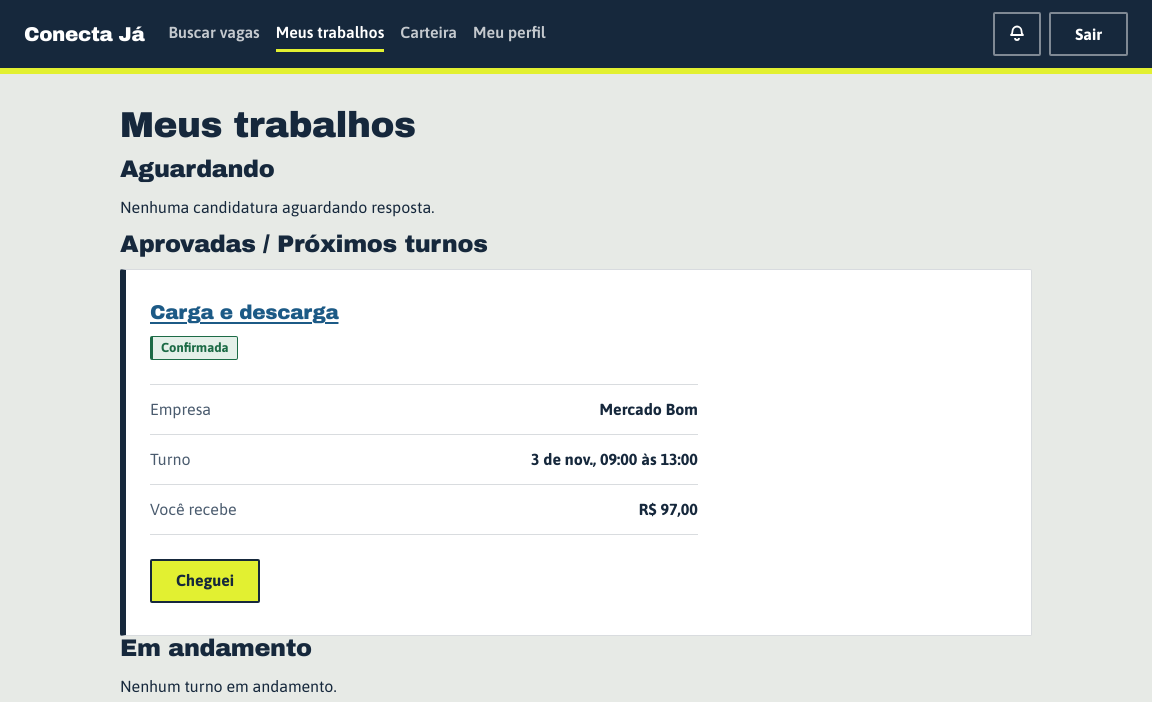
Check-in e check-out (US50/US54) › mostra a distância devolvida pelo servidor e não muda nada
Click the button "Cheguei" at (205, 581), box [150,559,260,603]
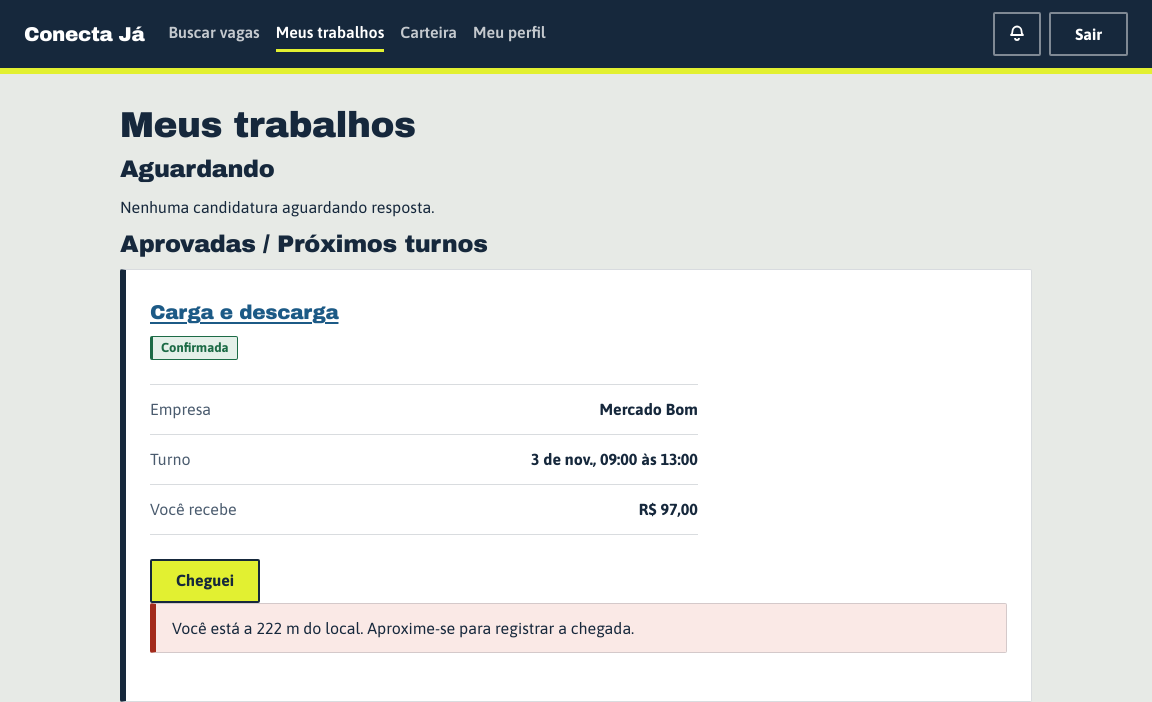
Expected: the text "Você está a 222 m do local. Aproxime-se para registrar a chegada." is shown, [150,603,1007,653]
